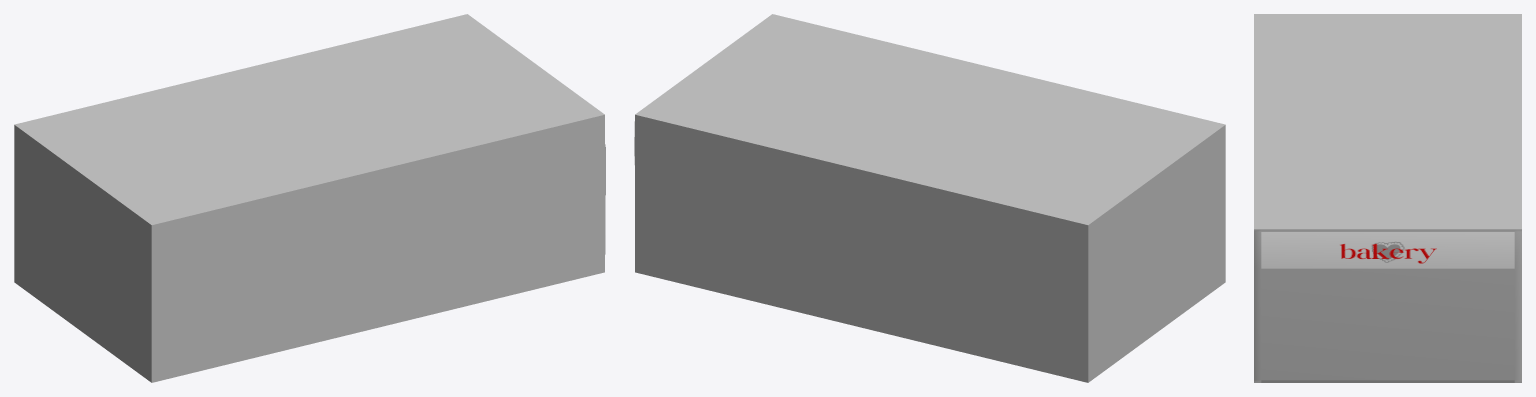
The model's file is bakery.fbx.
3 renders of one model, left to right at view 1: azimuth 30°, elevation 25°; view 2: azimuth 150°, elevation 25°; view 3: azimuth 270°, elevation 25°, orthographic. The views are drawn at different scales.
Visible parts, largest first — view 1: Bakery; view 2: Bakery; view 3: Bakery.
Boxes of the visible parts, x1,y1,x2,y2 form: Bakery: (14, 14, 605, 382); Bakery: (634, 14, 1225, 382); Bakery: (1254, 14, 1521, 382).
Bounding box in the file's own units: 1100 × 362 × 572.
